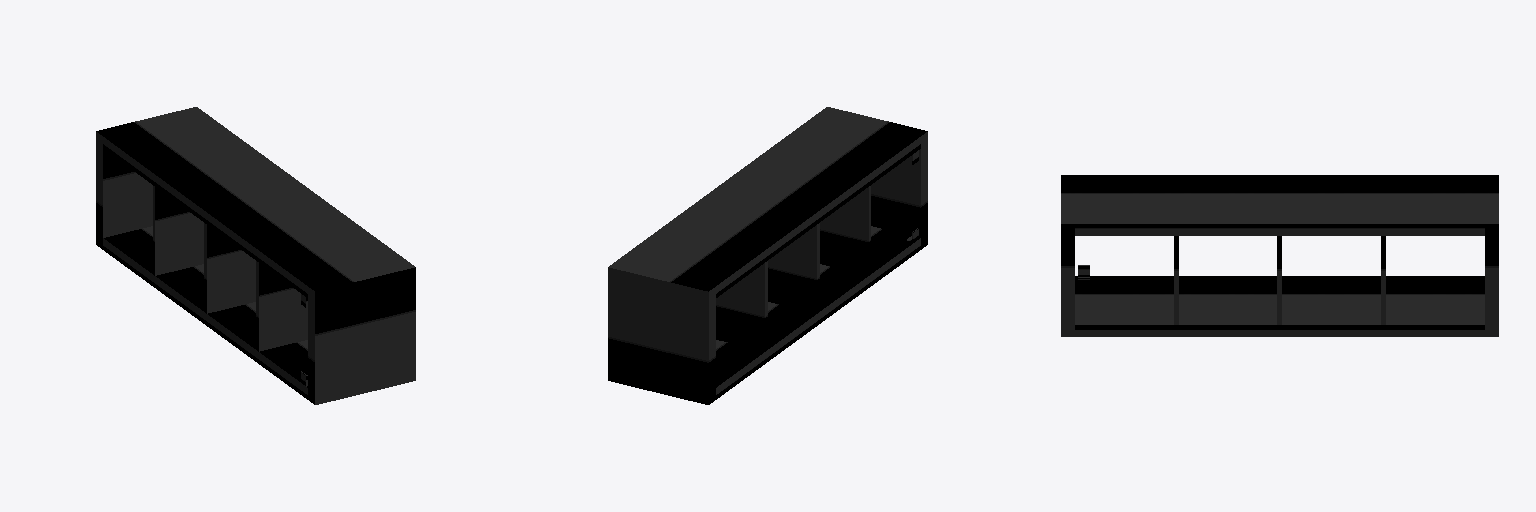
The picture shows the model from 3 angles: view 1: azimuth 30°, elevation 25°; view 2: azimuth 150°, elevation 25°; view 3: azimuth 270°, elevation 25°; orthographic projection.
Size of the model in its own units: 0.39 by 0.42 by 1.47.
1 materials, 1 textured.